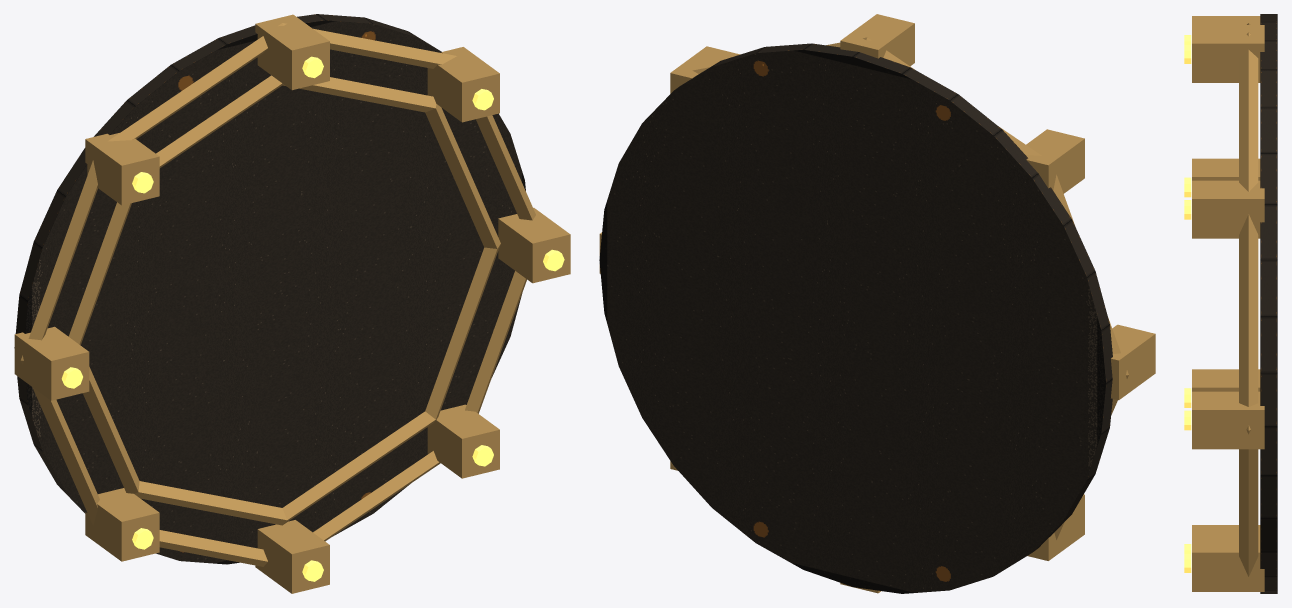
File: dock-low.glb
3 renders of one model, left to right at view 1: azimuth 30°, elevation 25°; view 2: azimuth 150°, elevation 25°; view 3: azimuth 270°, elevation 25°, orthographic.
Visible parts, largest first — view 1: dock-root.003 / Riveted iron.009, dock-root.003 / Machined brass.009, dock-root.003 / Amber lamps.009; view 2: dock-root.003 / Riveted iron.009, dock-root.003 / Machined brass.009; view 3: dock-root.003 / Machined brass.009, dock-root.003 / Riveted iron.009, dock-root.003 / Amber lamps.009.
Boxes of the visible parts, box(x1,y1,x2,y2) form: dock-root.003 / Riveted iron.009: box(14, 14, 525, 564); dock-root.003 / Machined brass.009: box(14, 14, 570, 593); dock-root.003 / Amber lamps.009: box(61, 56, 564, 581); dock-root.003 / Riveted iron.009: box(599, 43, 1112, 593); dock-root.003 / Machined brass.009: box(599, 14, 1155, 593); dock-root.003 / Machined brass.009: box(1192, 16, 1264, 591); dock-root.003 / Riveted iron.009: box(1260, 14, 1277, 593); dock-root.003 / Amber lamps.009: box(1184, 35, 1191, 572).
Size of the model in its own units: 2.07 by 2.07 by 0.322.
3 materials, 1 textured.
